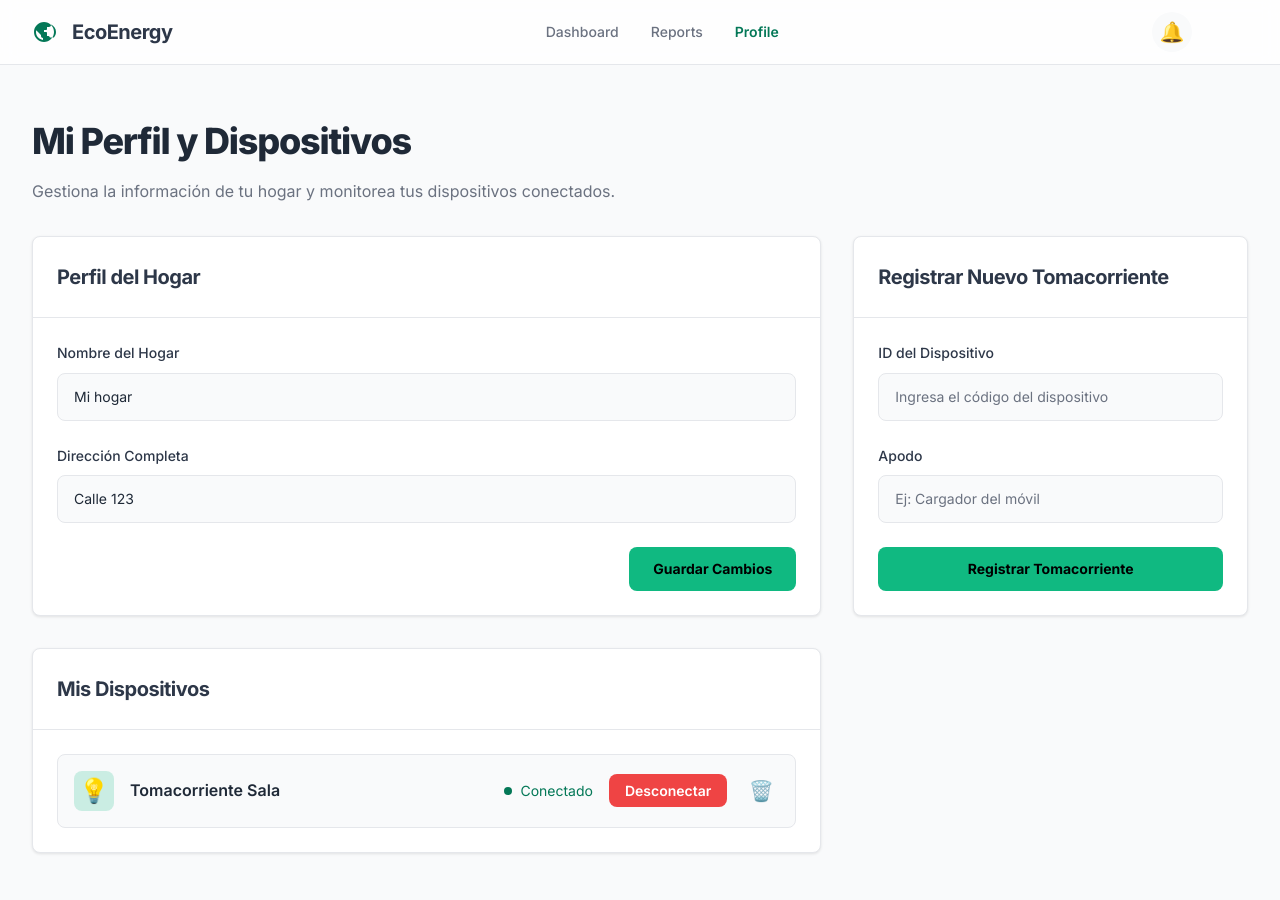
Test case: Eliminación de tomacorrientes en perfil › CP-DEL-002 elimina el dispositivo y muestra mensaje de éxito
Expected: the heading "Mis Dispositivos" is shown, [57,677,209,701]
Click the button titled "eliminar dispositivo".
click(761, 791)  # box [743,773,779,809]
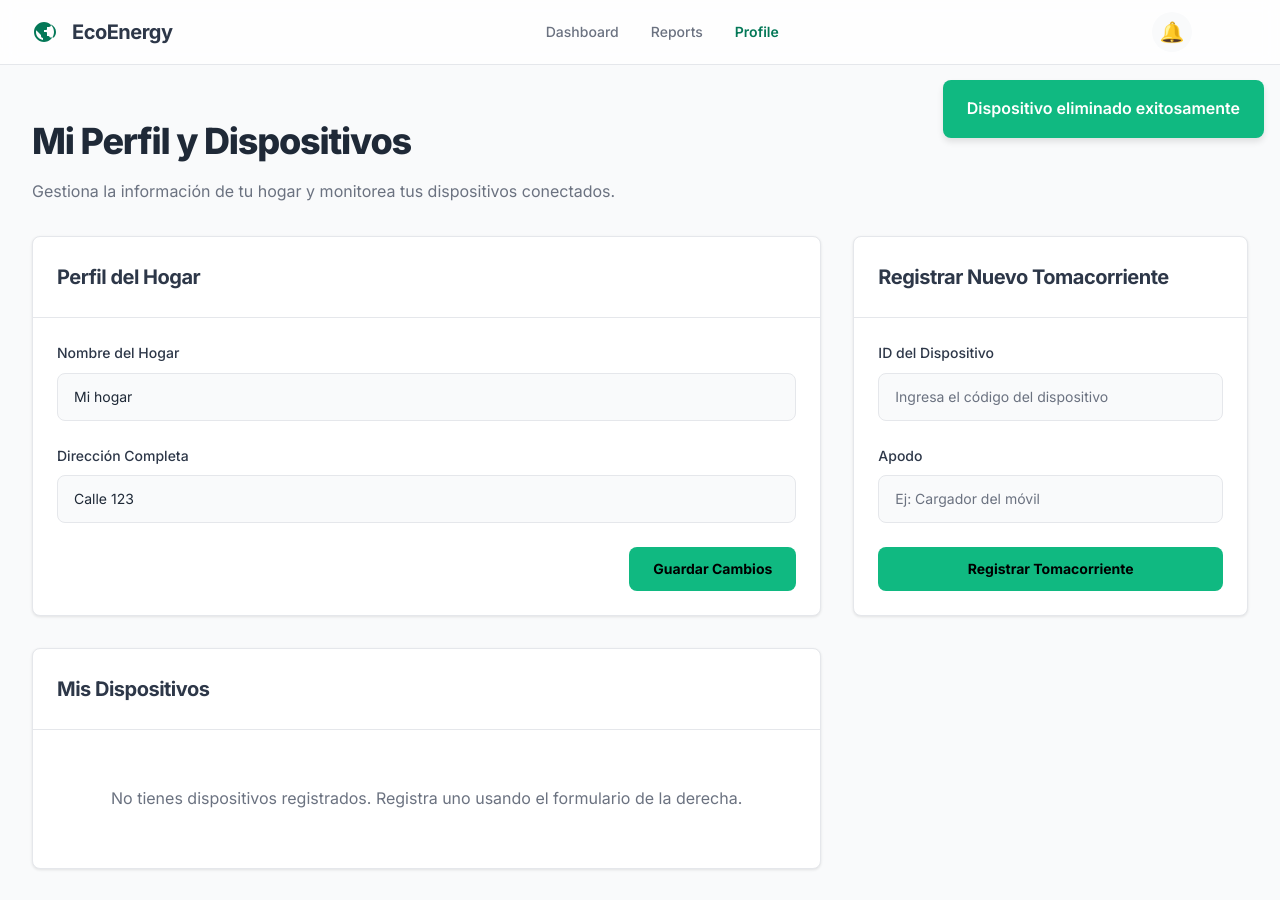
Expected: the field showing "Tomacorriente Sala" is not shown
Result: the text "Dispositivo eliminado exitosamente" is shown at [943,80,1264,138]
